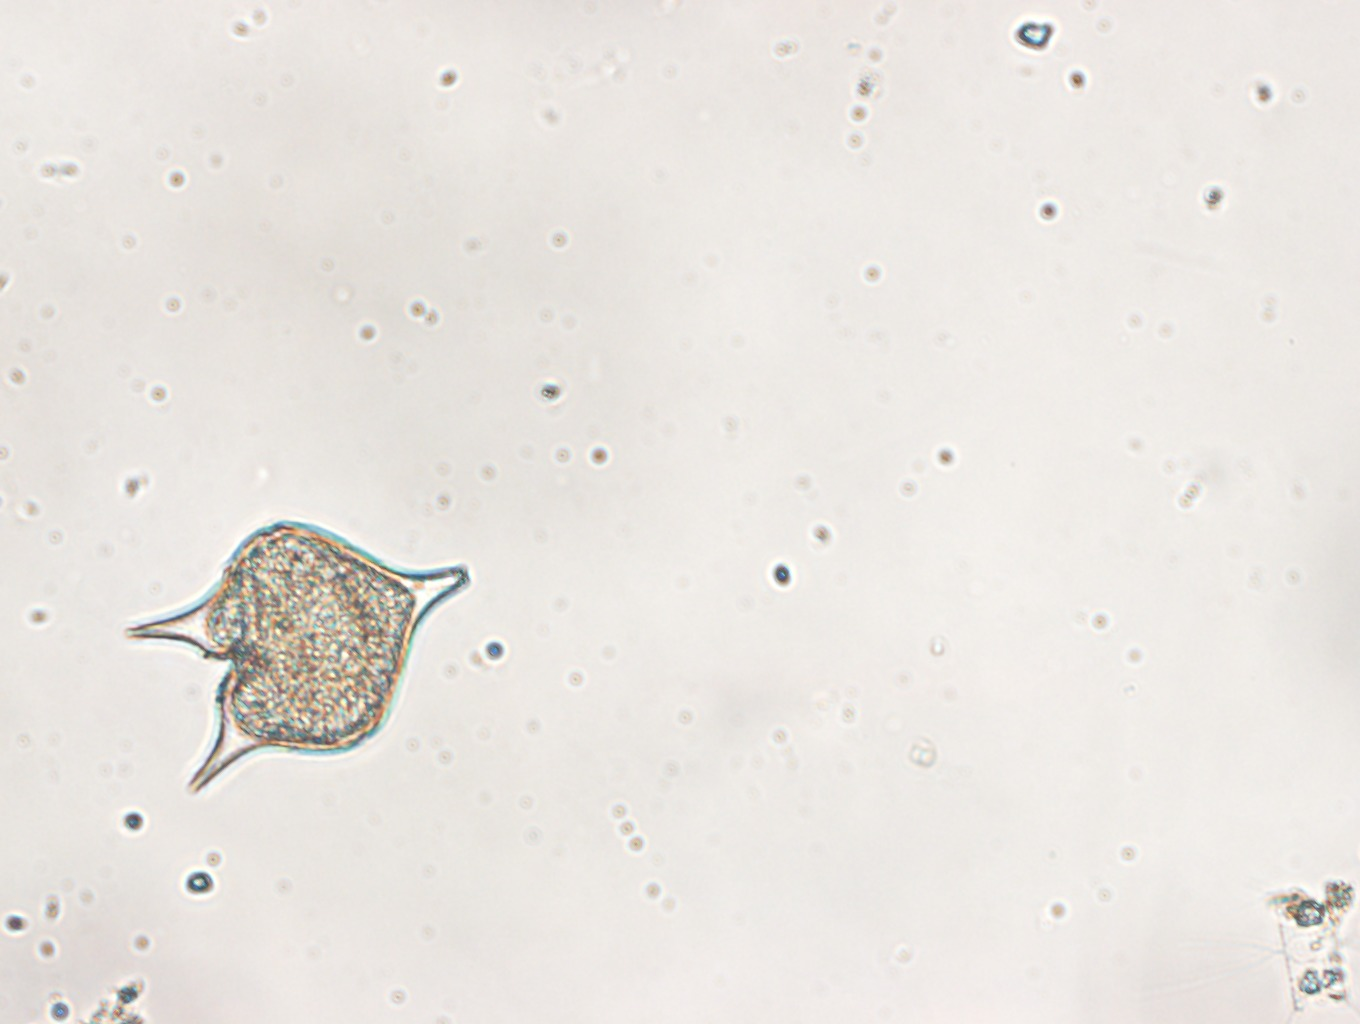protoperidinium: (116, 502, 473, 797)
